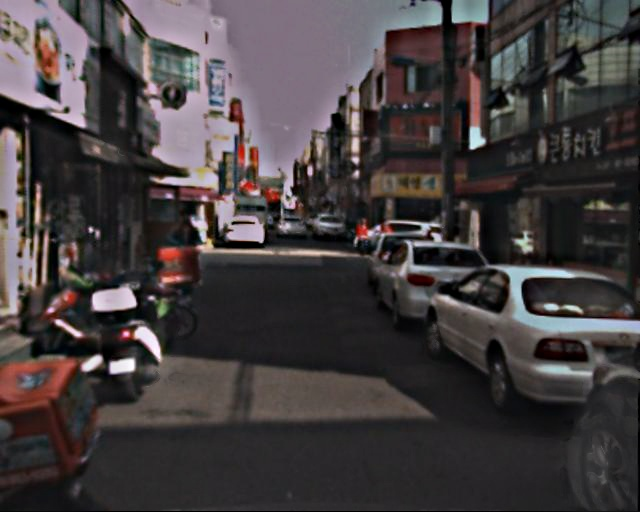person: (169, 207, 210, 308), (376, 217, 394, 262), (355, 217, 370, 254)
